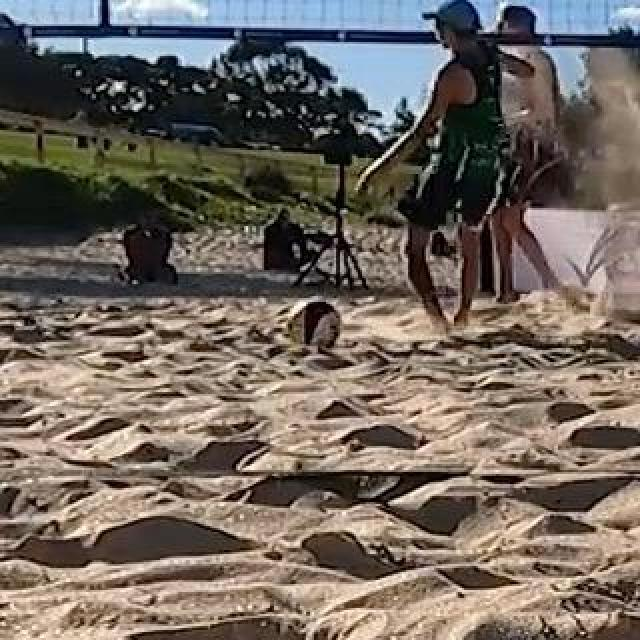volleyball: (287, 299, 343, 353)
